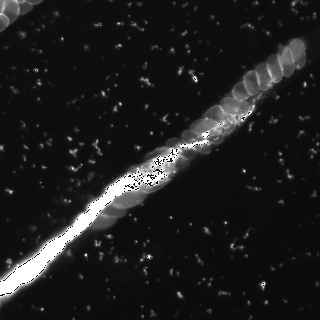embryo: (137, 165, 176, 194), (190, 117, 227, 144), (146, 147, 177, 175), (111, 185, 148, 208), (180, 129, 211, 154), (160, 147, 189, 170), (165, 138, 196, 159), (95, 200, 128, 219), (281, 38, 305, 64), (218, 97, 251, 114), (84, 213, 117, 229), (288, 38, 305, 69), (279, 46, 295, 77), (254, 62, 271, 90), (266, 53, 282, 82), (243, 70, 259, 95), (203, 104, 226, 121), (231, 79, 250, 99)
